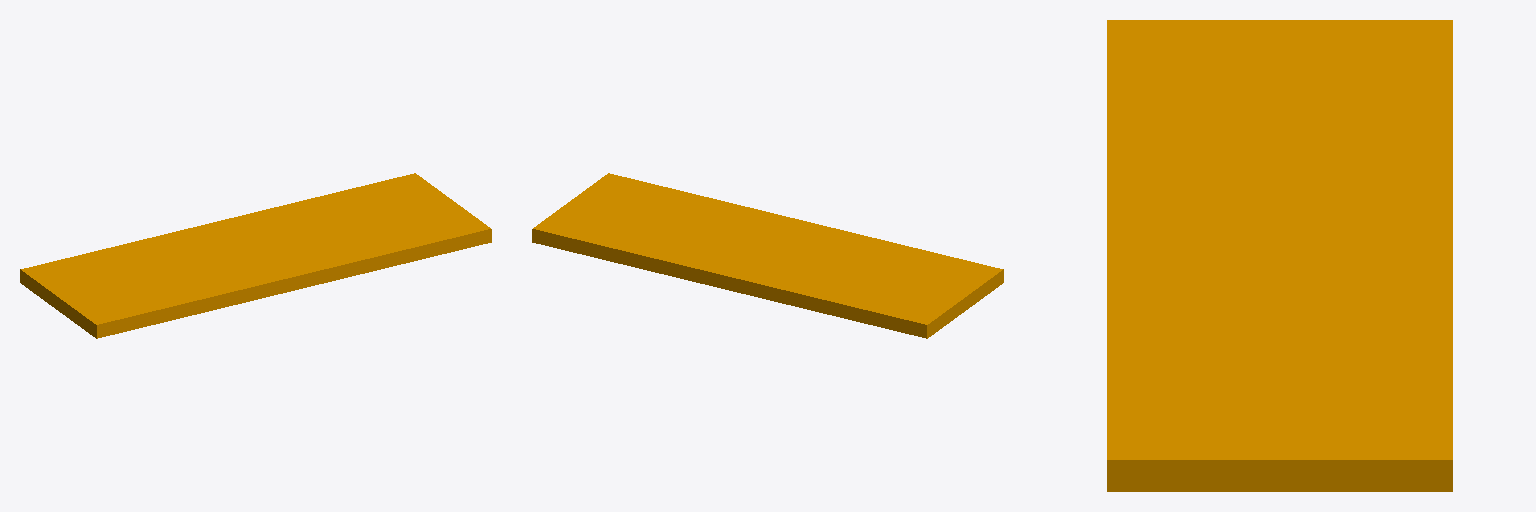
URDF robot description (box):
<?xml version="1.0"?>
<robot name="box">
    <!-- <link name="world"/> -->
    <link name="box_base">
        <visual>
            <geometry>
                <box size = "3.0 1.0 0.1"/>
            </geometry>
            <material name="white"/>
        </visual>
        <collision>
            <geometry>
                <box size = "3.0 1.0 0.1"/>
            </geometry>
        </collision>
        <inertial>
            <mass value="1"/>
            <inertia ixx="1.0" ixy="0.0" ixz="0.0" iyy="1.0" iyz="0.0" izz="1.0"/>
        </inertial>
    </link>
    
    <gazebo reference="box_base">
        <material>Gazebo/DarkGrey</material>
        <mu1 value="100000.0"/>
        <mu2 value="100000.0"/>
        <kp value="10000.0"/>
        <kd value="1.0"/>
    </gazebo>
</robot>

--- Facts derived from the render (not from the file) ---
The picture shows the robot from 3 angles, left to right: view 1: azimuth 30°, elevation 25°; view 2: azimuth 150°, elevation 25°; view 3: azimuth 270°, elevation 25°; orthographic projection.
Robot: box — 1 links, 0 joints (none); root link box_base; default pose: all joints at 0.
Visible links, largest first — view 1: box_base; view 2: box_base; view 3: box_base.
Link boxes in pixels (bbox=[...]): box_base: bbox=[20, 173, 491, 338]; box_base: bbox=[532, 173, 1003, 338]; box_base: bbox=[1107, 20, 1452, 491].
Size in the robot's own frame: 3 by 1 by 0.1 metres.
Geometry: primitives only (box / cylinder / sphere), no mesh files.